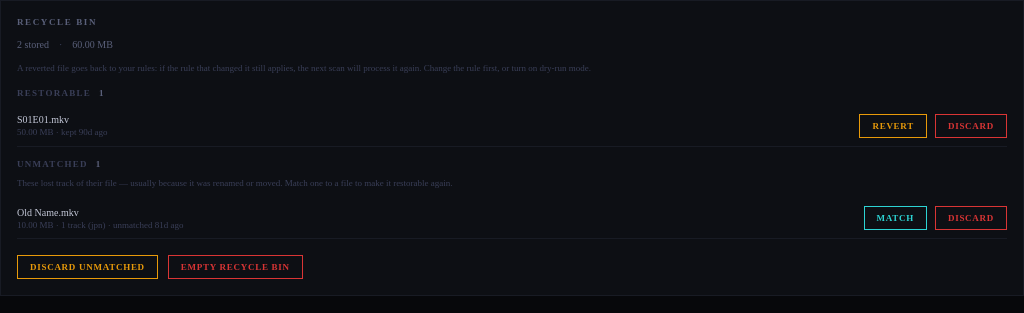
Test: concurrency › shows the running revert instead of offering it again
Click the button "REVERT" at (893,126), box [859,114,927,138]
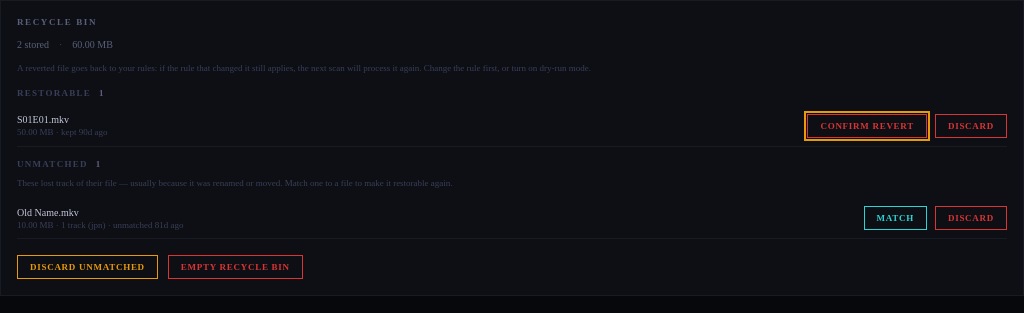
Click the button "CONFIRM REVERT" at (867,126), box [807,114,927,138]
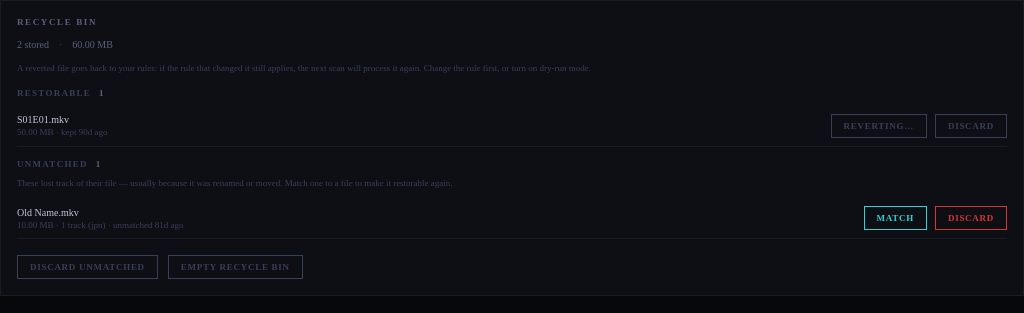
Check: the button "REVERTING…" is shown, box [830,114,927,138]
